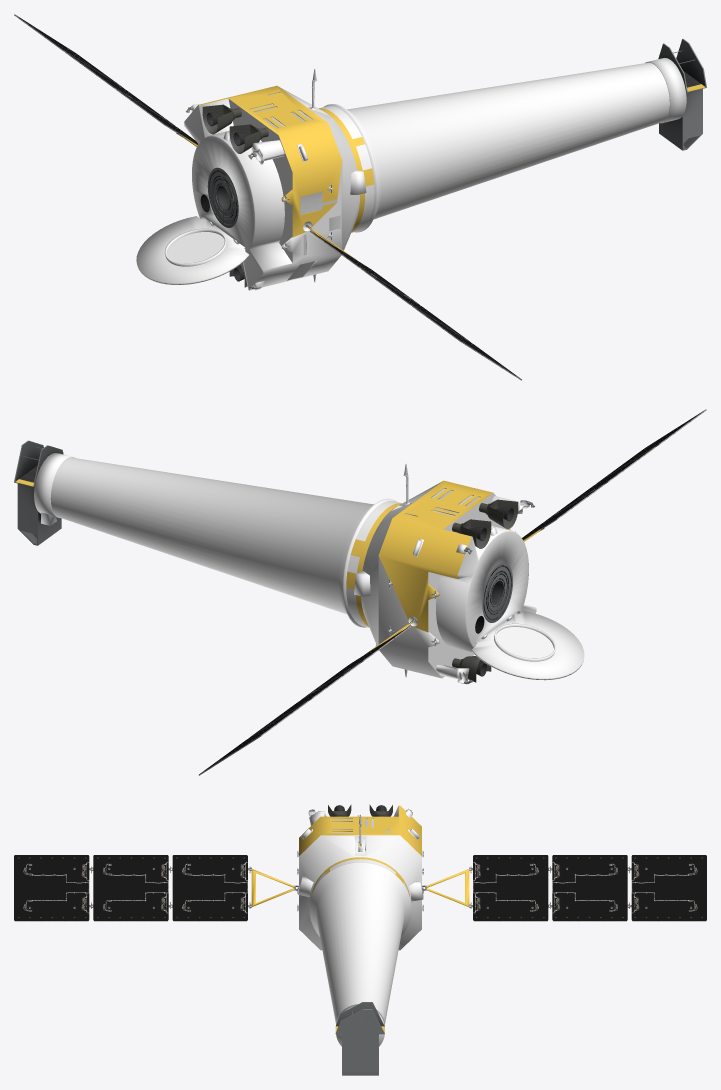
Rendered from chandra.gltf.
3 renders of one model, top to bottom at view 1: azimuth 30°, elevation 25°; view 2: azimuth 150°, elevation 25°; view 3: azimuth 270°, elevation 25°, orthographic. The views are drawn at different scales.
Visible parts, largest first — view 1: foil_silver, tex_01, BUS, AO_HRMA; view 2: foil_silver, BUS, tex_01, AO_HRMA; view 3: tex_01, foil_silver, BUS.
Part boxes in pixels (x1,y1,x2,y2): foil_silver: (136, 58, 686, 290); tex_01: (14, 14, 706, 380); BUS: (180, 84, 705, 259); AO_HRMA: (207, 167, 238, 227); foil_silver: (34, 452, 584, 683); BUS: (15, 479, 540, 654); tex_01: (14, 409, 706, 775); AO_HRMA: (482, 562, 512, 622); tex_01: (14, 804, 706, 1075); foil_silver: (297, 806, 423, 1046); BUS: (251, 805, 469, 1032).
Bounding box in the file's own units: 13.78 × 5.14 × 19.51.
Materials: 5 (3 with a texture image).
